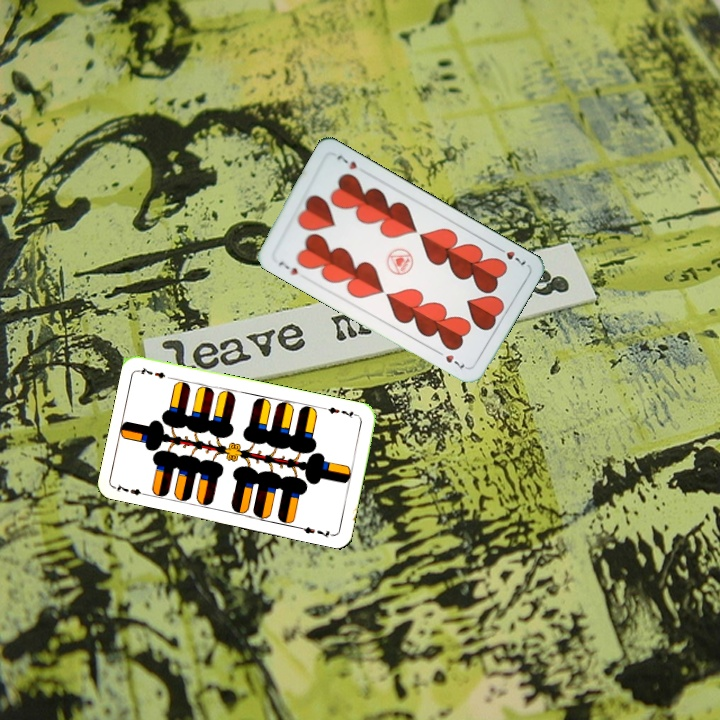E7: (320, 403, 361, 421), (111, 480, 152, 498)
H7: (492, 243, 529, 268), (274, 258, 300, 278)
